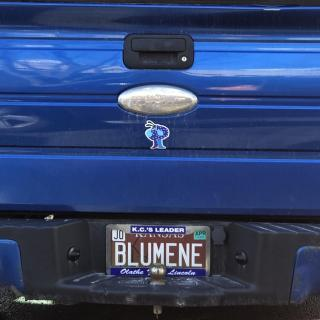license: (106, 225, 212, 279)
